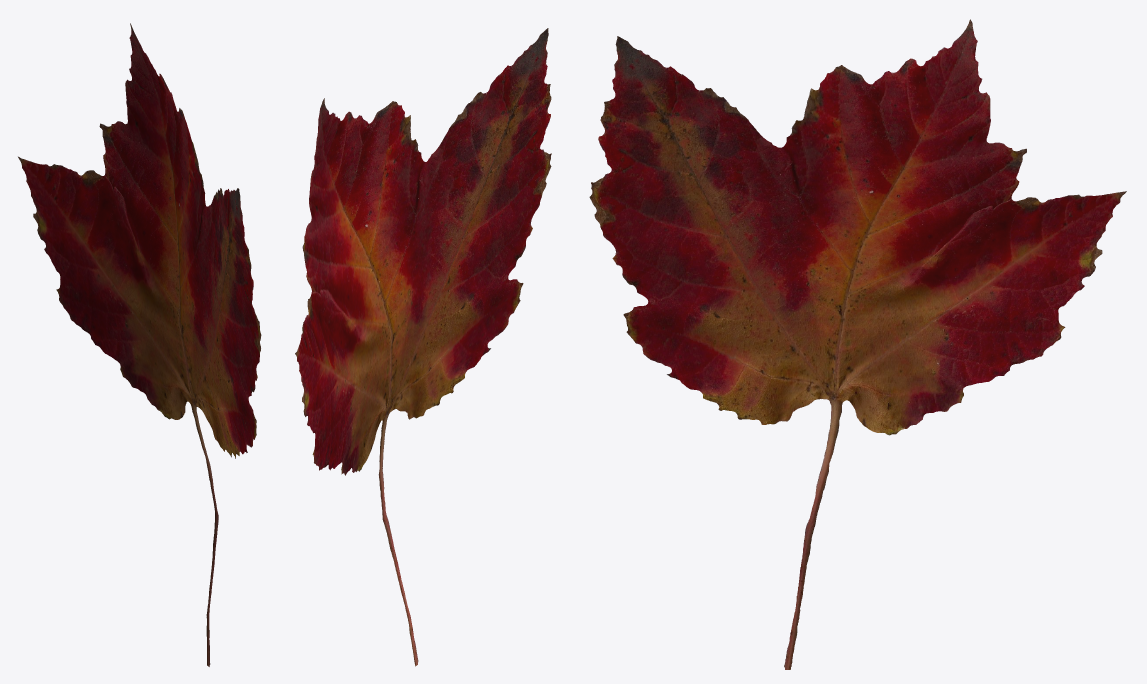
The model's file is LEAF6.fbx.
3 views of the same model, side by side, from view 1: azimuth 30°, elevation 25°; view 2: azimuth 150°, elevation 25°; view 3: azimuth 270°, elevation 25° (orthographic). The views are drawn at different scales.
Visible parts, largest first — view 1: FALL40.001; view 2: FALL40.001; view 3: FALL40.001.
Boxes of the visible parts, bbox=[...] form: FALL40.001: bbox=[18, 23, 261, 666]; FALL40.001: bbox=[295, 28, 551, 666]; FALL40.001: bbox=[589, 19, 1126, 669].
Bounding box in the file's own units: 11.87 × 100 × 75.73.
